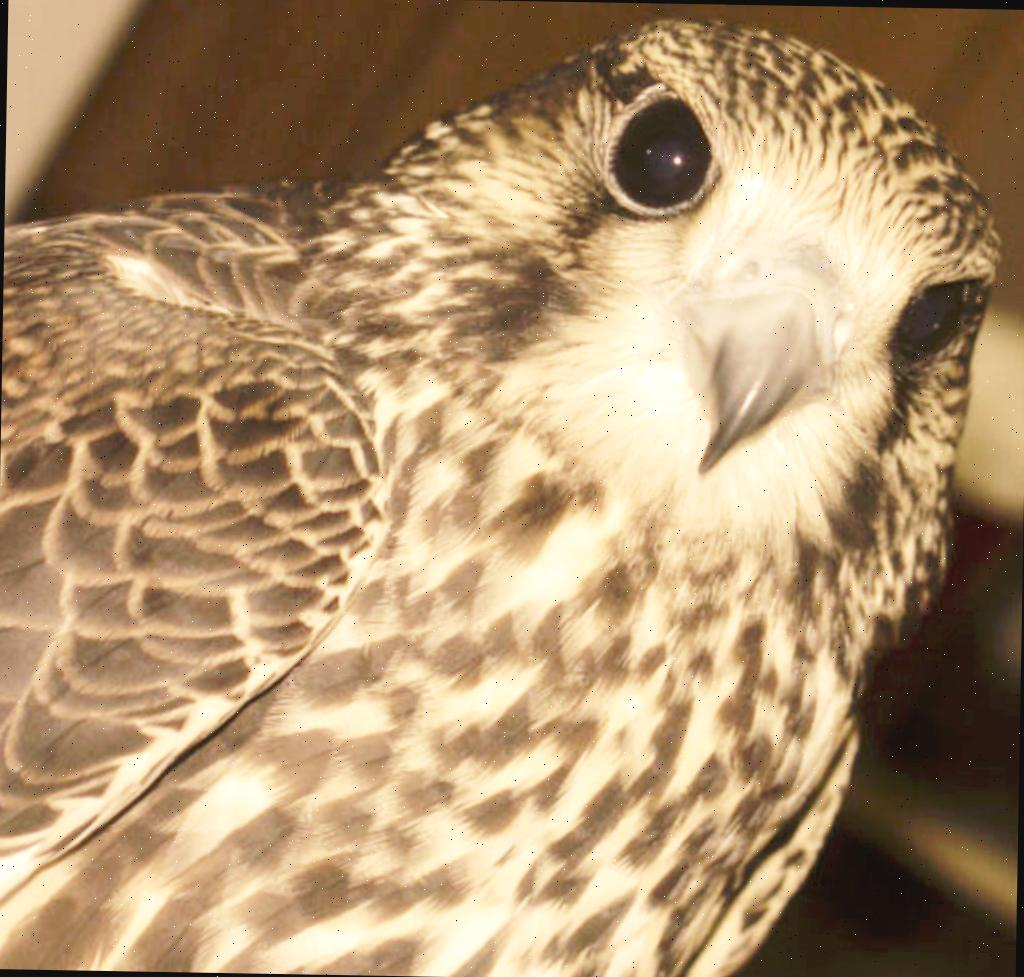Owl: (0, 9, 1010, 977)
